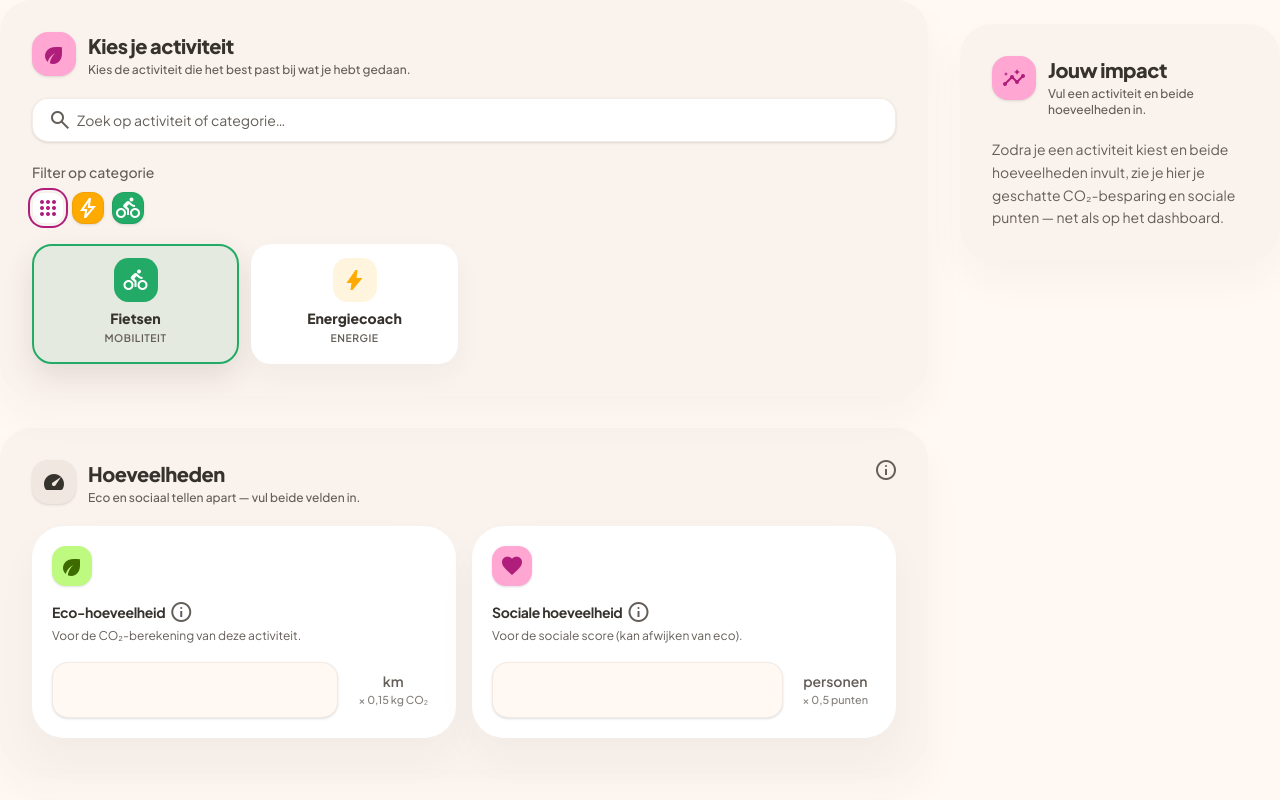
Test: RegistrationForm › filters interventions by search query
Type "fiets" into the search field named "zoek activiteit" at [464, 120], box [32,98,896,142]
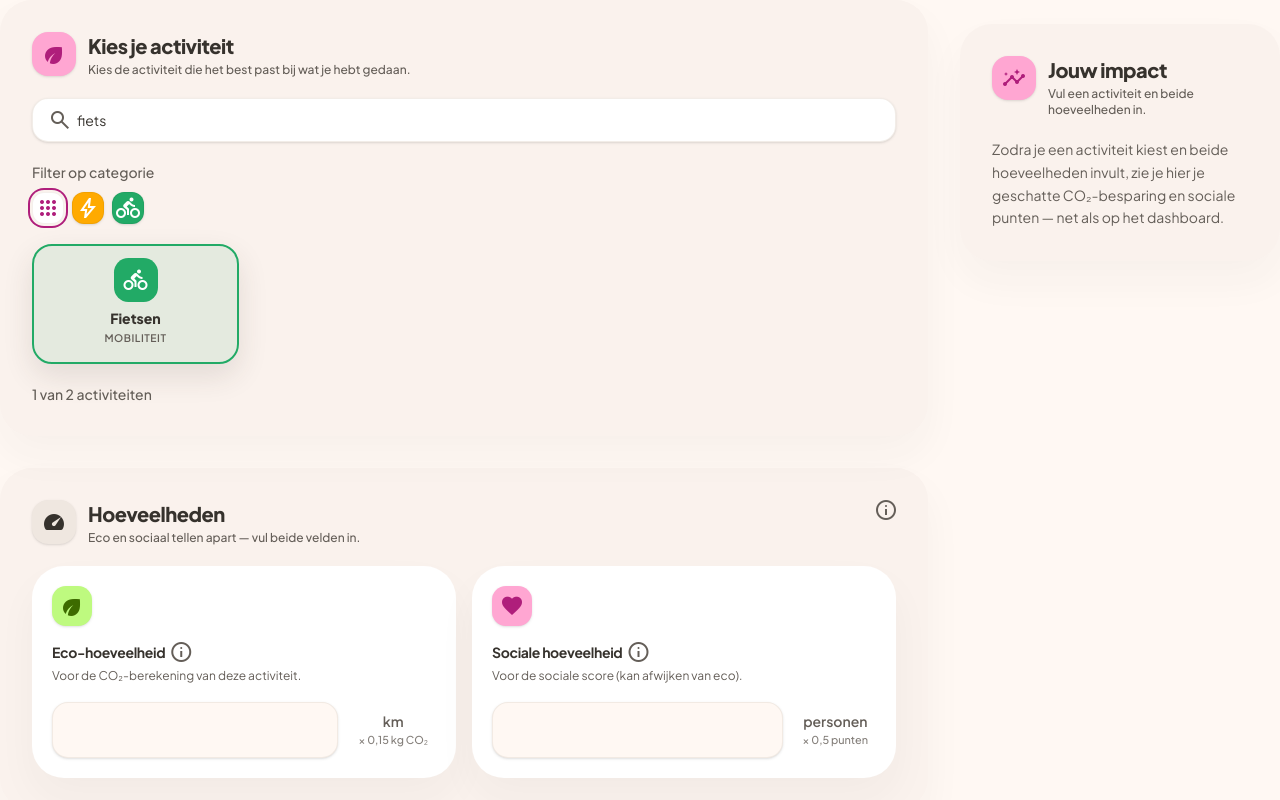
Check: the button "Fietsen Mobiliteit" is shown, box [32,244,239,364]
Check: the button "Energiecoach" is gone
